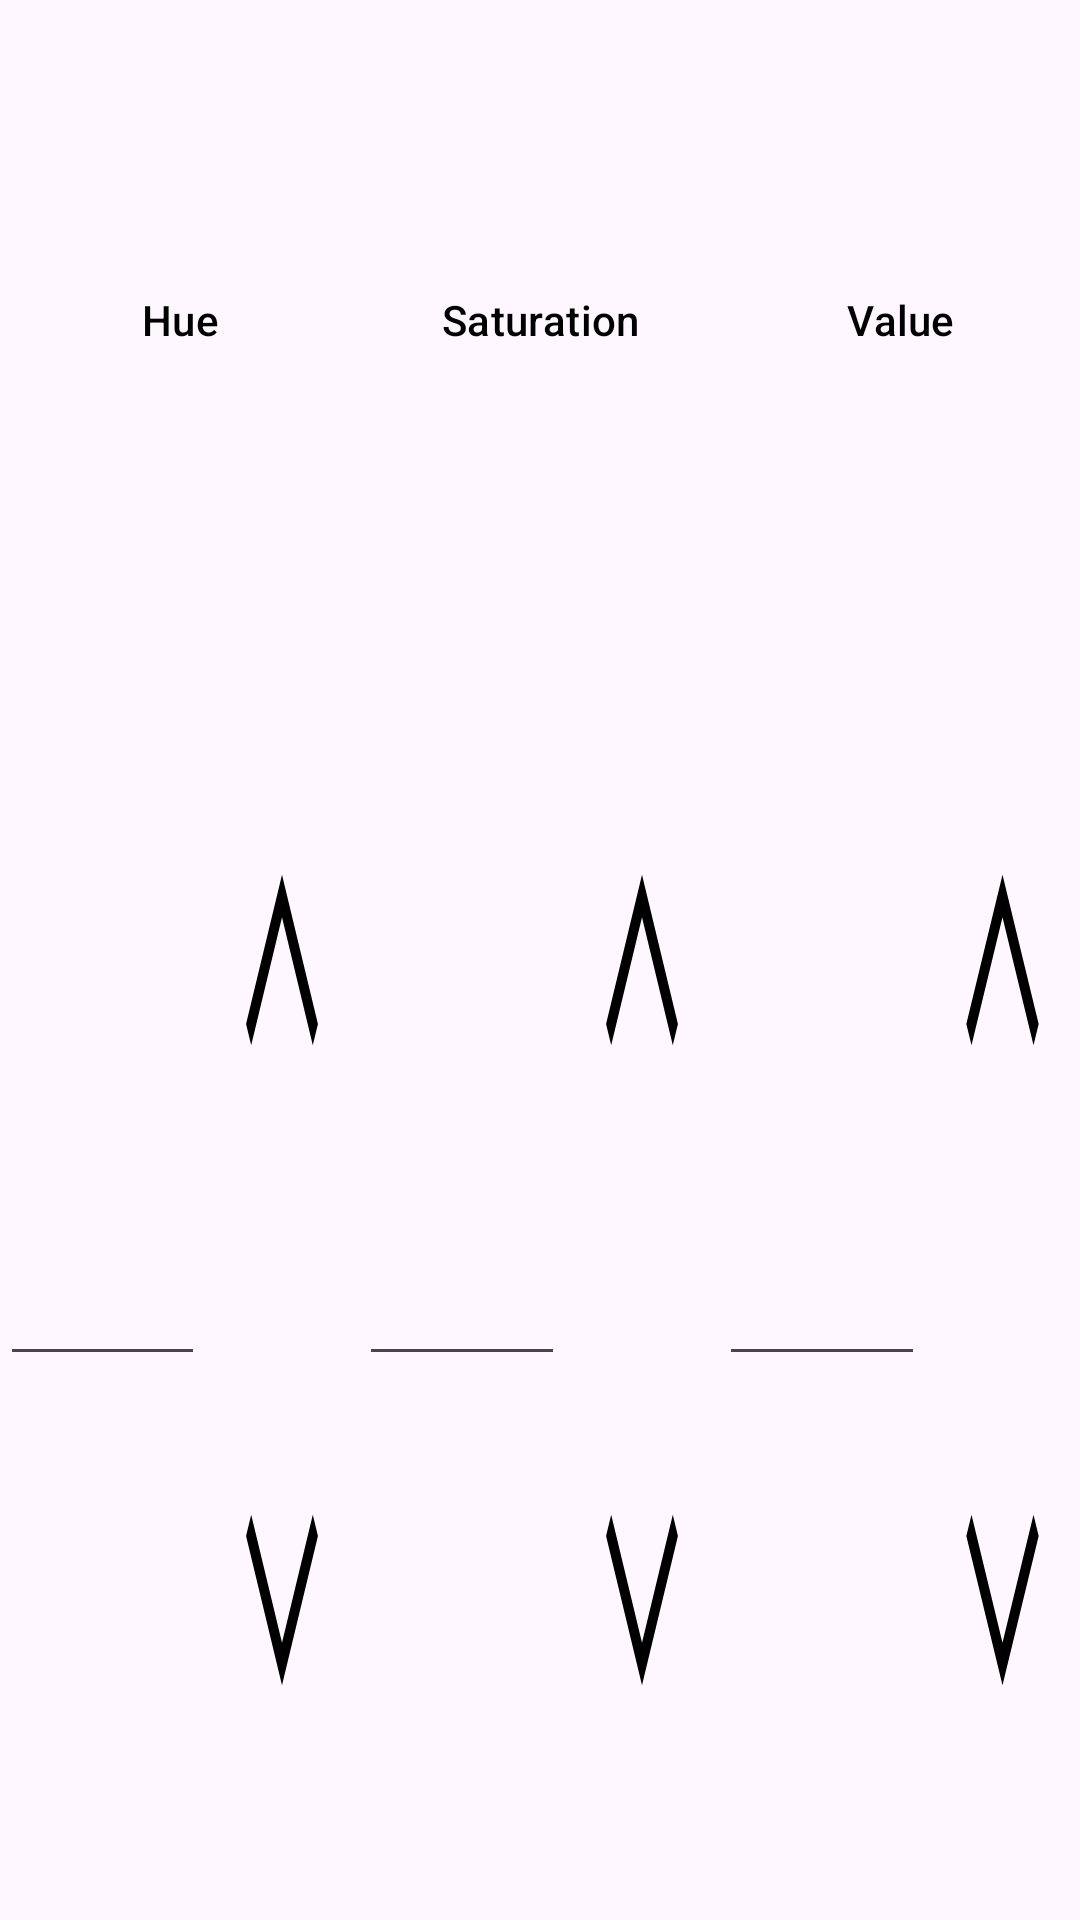

Locate icon controls on the screen. Image size 1080×1920, boxes as bbox(x1, y1, x2, y2).
down: bbox(246, 1515, 318, 1685), bbox(606, 1515, 678, 1685), bbox(966, 1515, 1039, 1685)
